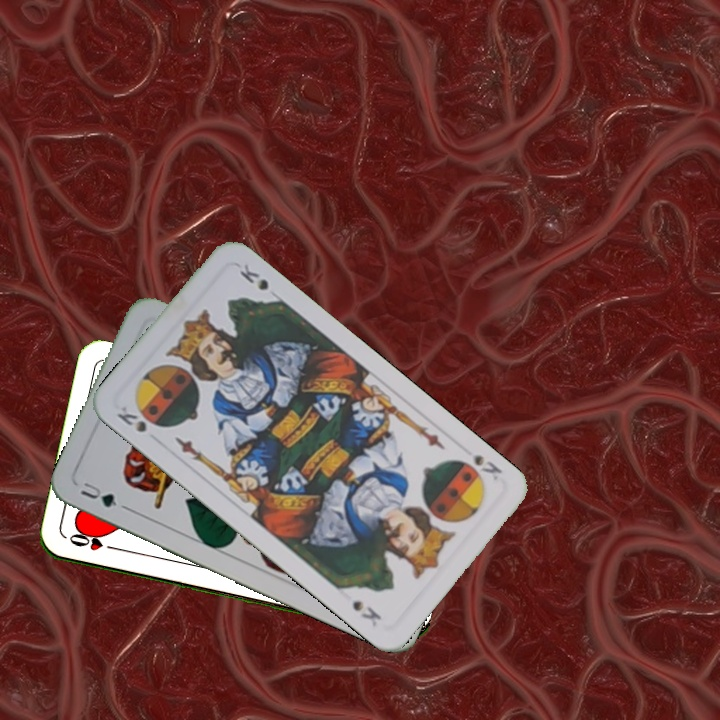GU: (76, 478, 122, 510)
HO: (65, 531, 122, 554)
SK: (112, 402, 149, 435), (469, 450, 505, 483)
